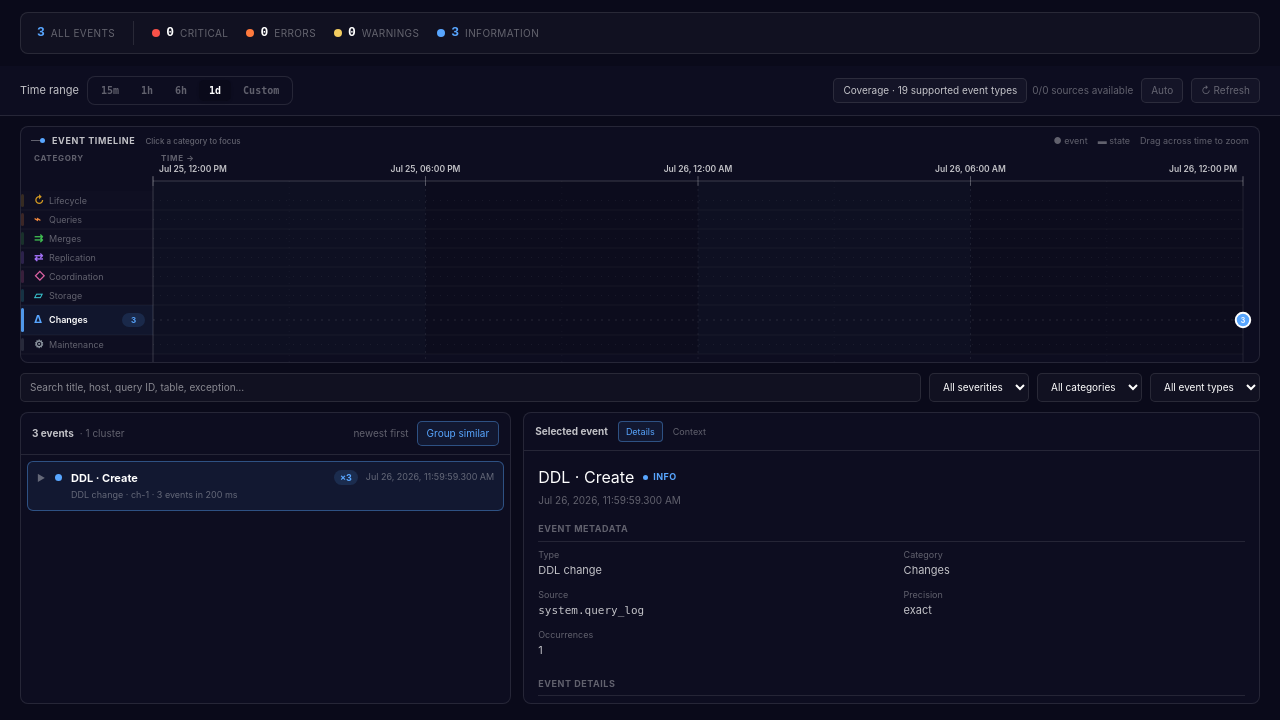
it: EventsDashboard refresh behavior › collapses similar bursts and keeps the individual events expandable
The width and height of the screenshot is (1280, 720).
Click the button with aria-label "Expand 3 similar events: DDL · Create" at [104, 478], box left=27, top=460, right=504, bottom=510
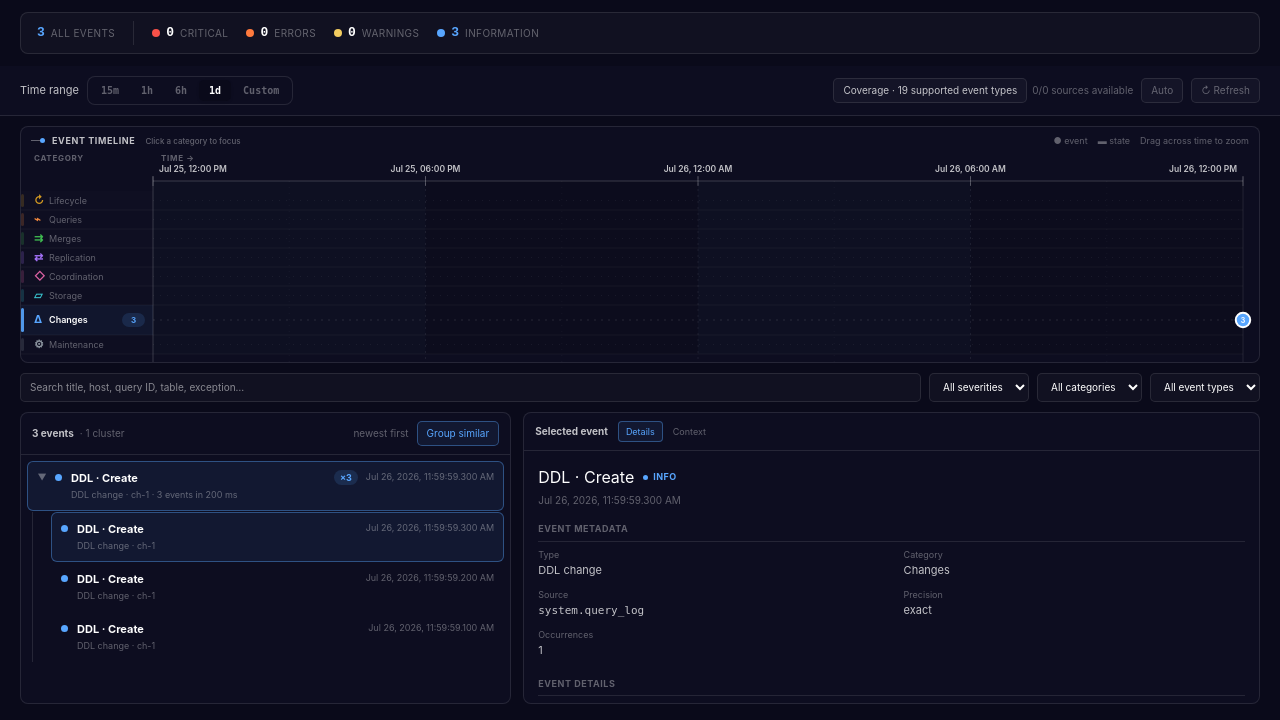
Result: the button with aria-label "Collapse 3 similar events: DDL · Create" is expanded at left=27, top=460, right=504, bottom=510
Result: the number of buttons "DDL · Create DDL change · ch-1 Jul 26, 2026, 11:59:59.300 AM" is 3 at left=51, top=512, right=504, bottom=562; left=51, top=562, right=504, bottom=612; left=51, top=612, right=504, bottom=662
